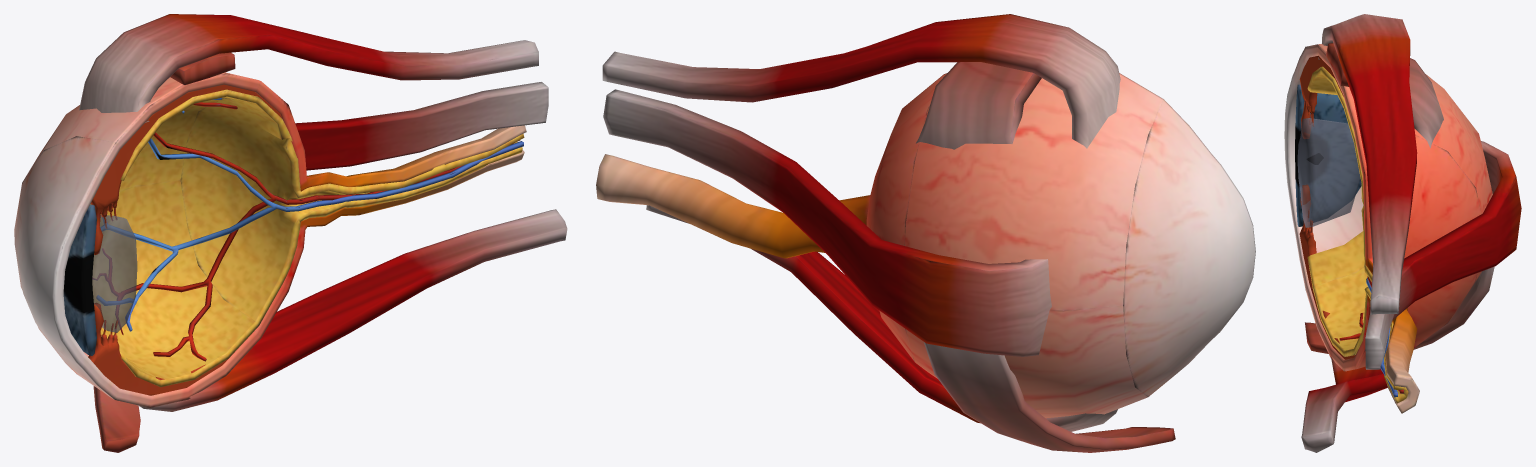
File: eye-cross-section.glb
3 views of the same model, side by side, from view 1: azimuth 30°, elevation 25°; view 2: azimuth 150°, elevation 25°; view 3: azimuth 270°, elevation 25° (orthographic). The views are drawn at different scales.
Parts seen in each view (by area): view 1: Eye Cross Section; view 2: Eye Cross Section; view 3: Eye Cross Section.
Boxes of the visible parts, box(x1,y1,x2,y2) form: Eye Cross Section: box(14, 14, 567, 452); Eye Cross Section: box(596, 14, 1255, 452); Eye Cross Section: box(1284, 14, 1521, 452).
Size of the model in its own units: 0.1909 by 0.1274 by 0.0767.
1 material, 1 textured.
